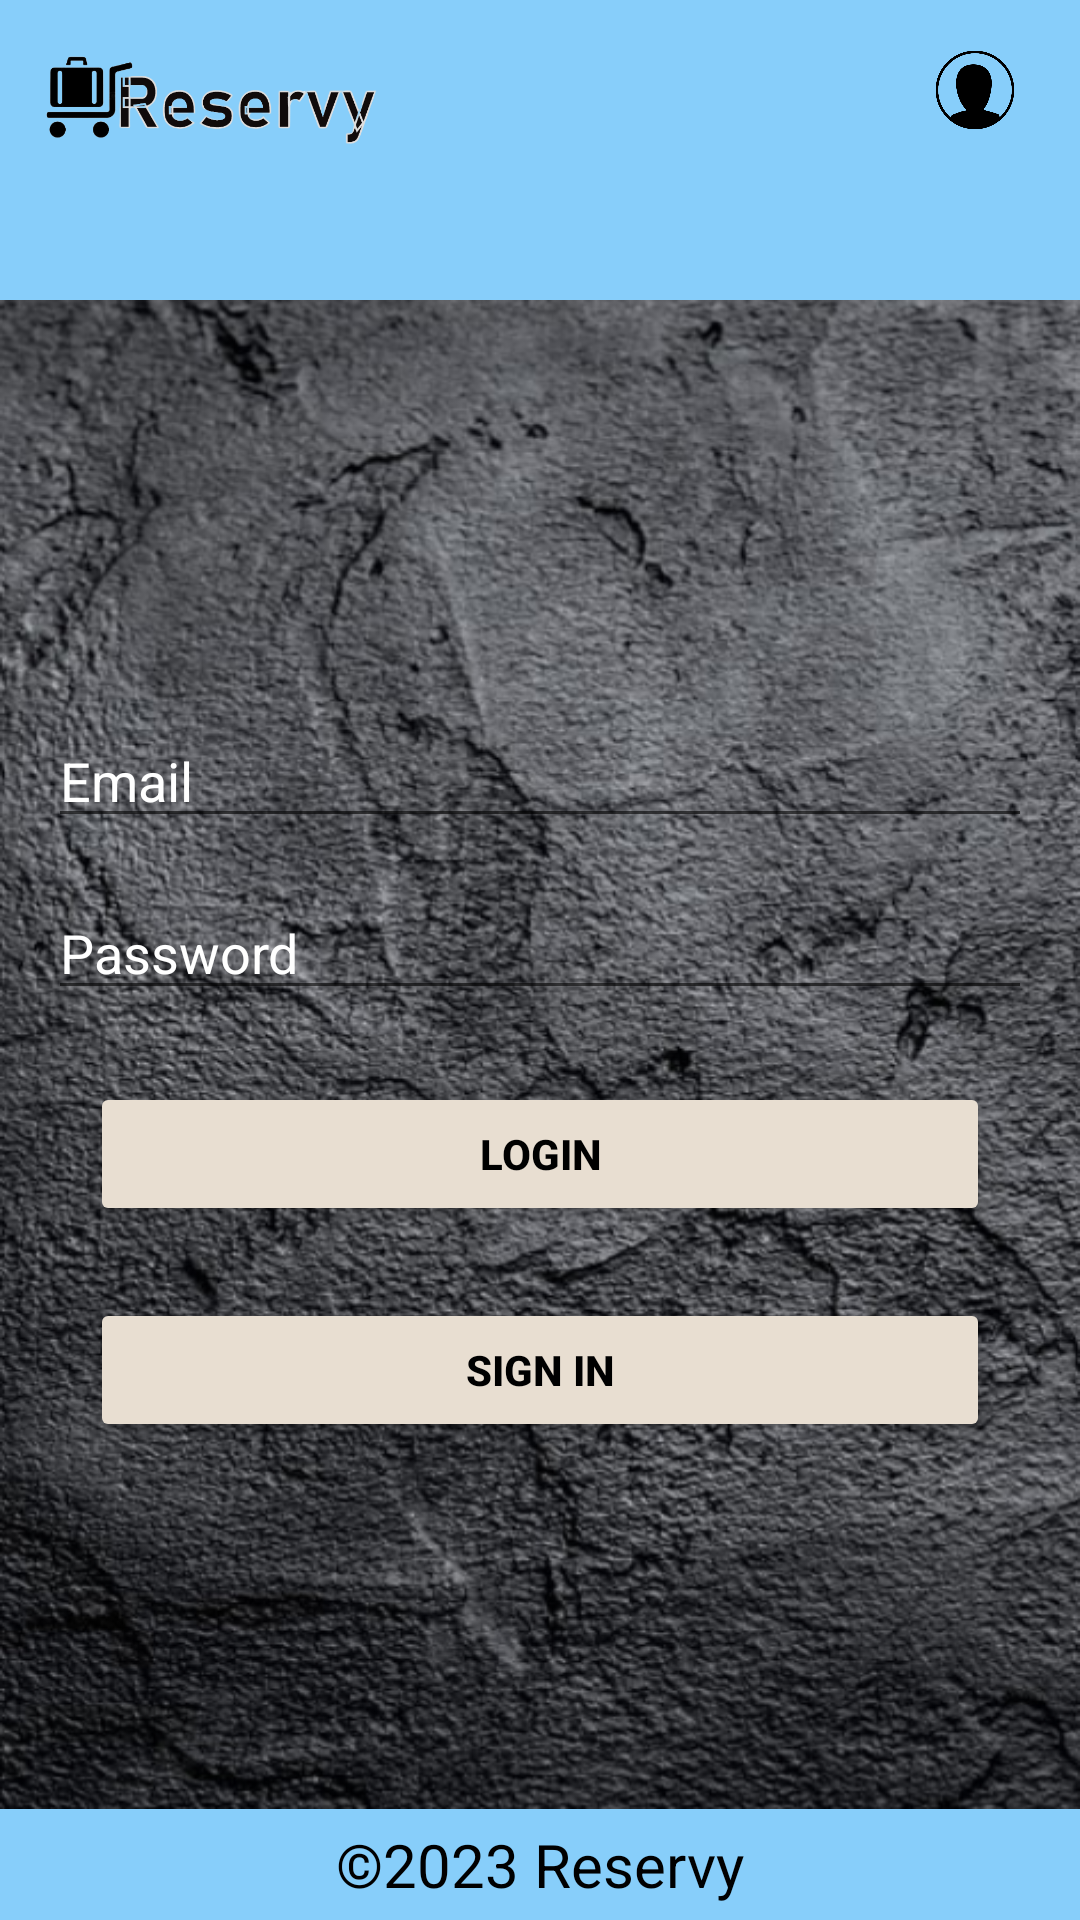

Icon click points for this 1080px x 1920px phone screenshot, format point (x, y):
person: point (975, 90)
